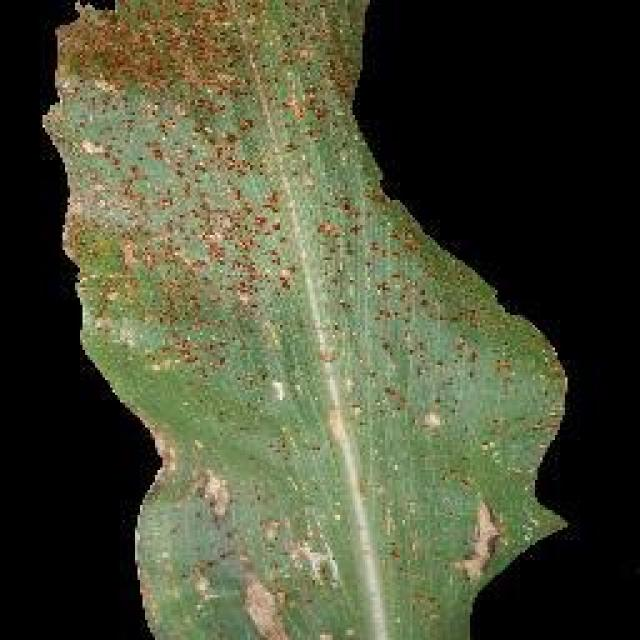Corn Common Rust: (72, 4, 455, 488), (60, 6, 217, 16)
